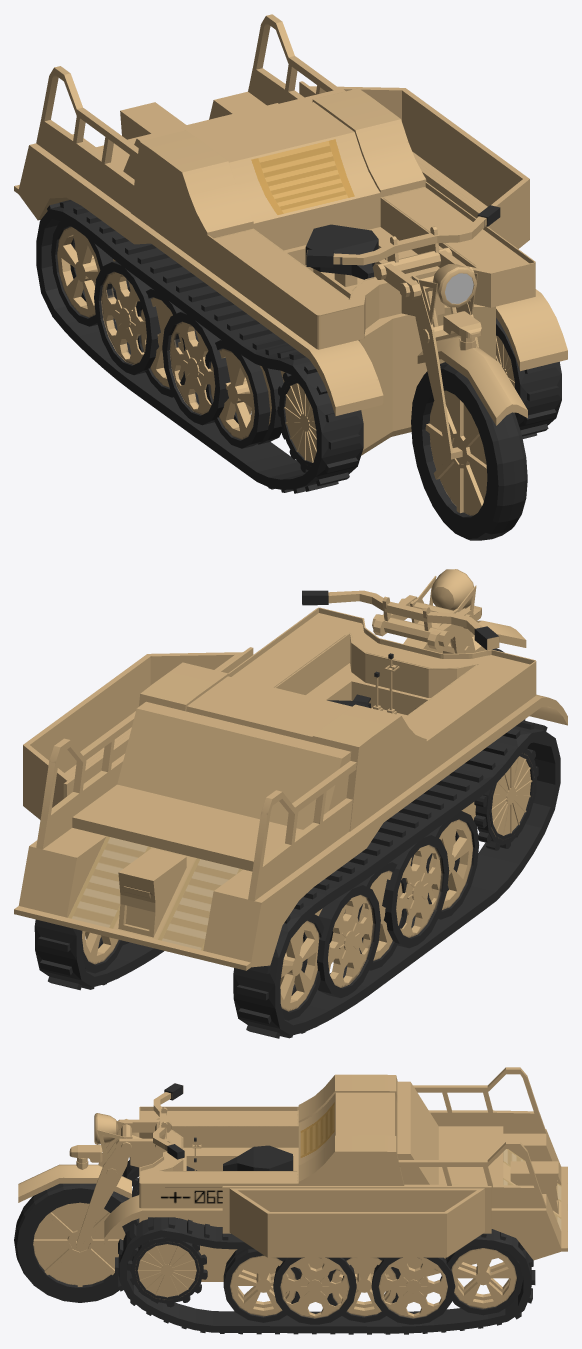
File: Kettenkrad.fbx
3 views of the same model, one above another, from view 1: azimuth 30°, elevation 25°; view 2: azimuth 150°, elevation 25°; view 3: azimuth 270°, elevation 25° (orthographic). The views are drawn at different scales.
Visible parts, largest first — view 1: 立方體.027, leftTrack.001, 立方體.026, 立方體.037, 圓柱體.010, 立方體.038, 立方體.035, 立方體.036, rightWheel4.001, rightWheel1.001, rightWheel2.001, rightWheel5.001 (+13 smaller); view 2: 立方體.039, leftTrack.001, 立方體.026, 立方體.037, 立方體.027, 立方體.035, 立方體.036, 立方體.038, rightWheel4.001, rightWheel2.001, rightTrack.001, rightWheel.001 (+8 smaller); view 3: 立方體.038, rightTrack.001, 立方體.027, 立方體.026, 圓柱體.010, 立方體.039, 立方體.037, 立方體.036, 立方體.035, leftWheel.001, leftWheel4.001, leftWheel2.001 (+14 smaller).
Part boxes in pixels (x1,y1,x2,y2): 立方體.027: [130, 88, 426, 268]; leftTrack.001: [36, 200, 363, 493]; 立方體.026: [207, 182, 535, 349]; 立方體.037: [14, 91, 567, 416]; 圓柱體.010: [411, 362, 527, 540]; 立方體.038: [299, 81, 529, 248]; 立方體.035: [120, 102, 495, 455]; 立方體.036: [36, 14, 339, 211]; rightWheel4.001: [94, 261, 160, 375]; rightWheel1.001: [205, 340, 283, 448]; rightWheel2.001: [162, 311, 230, 425]; rightWheel5.001: [51, 221, 130, 326]; 立方體.039: [72, 701, 351, 871]; leftTrack.001: [233, 720, 560, 1038]; 立方體.026: [228, 607, 536, 775]; 立方體.037: [14, 694, 567, 970]; 立方體.027: [139, 662, 426, 831]; 立方體.035: [68, 663, 475, 950]; 立方體.036: [36, 711, 356, 900]; 立方體.038: [23, 647, 253, 819]; rightWheel4.001: [317, 884, 380, 998]; rightWheel2.001: [382, 834, 449, 948]; rightTrack.001: [34, 919, 163, 990]; rightWheel.001: [474, 747, 538, 850]; 立方體.038: [222, 1186, 491, 1257]; rightTrack.001: [115, 1217, 535, 1334]; 立方體.027: [298, 1074, 404, 1185]; 立方體.026: [139, 1106, 298, 1208]; 圓柱體.010: [14, 1183, 139, 1302]; 立方體.039: [397, 1081, 503, 1185]; 立方體.037: [104, 1129, 567, 1260]; 立方體.036: [398, 1067, 546, 1208]; 立方體.035: [139, 1147, 561, 1281]; leftWheel.001: [127, 1237, 207, 1307]; leftWheel4.001: [371, 1257, 455, 1324]; leftWheel2.001: [273, 1257, 356, 1324].
Size of the model in its own units: 10.66 by 8.83 by 22.83.
